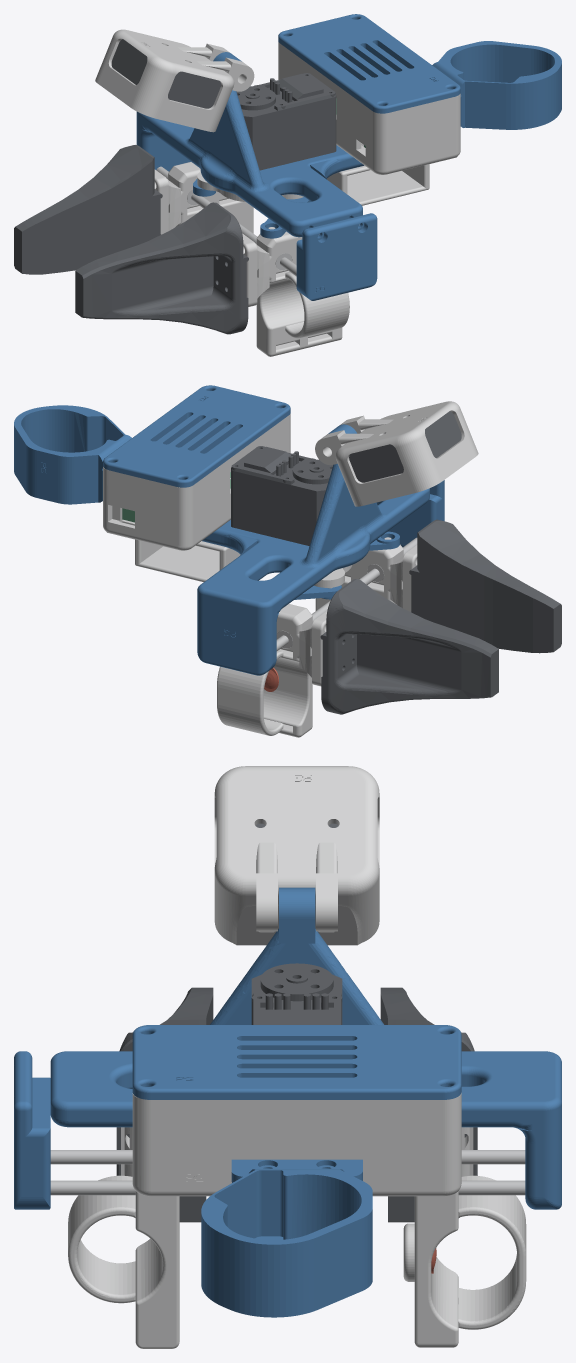
Rendered from para-umi_right_agilex-piper.glb.
3 views of the same model, one above another, from view 1: azimuth 30°, elevation 25°; view 2: azimuth 150°, elevation 25°; view 3: azimuth 270°, elevation 25° (orthographic). The views are drawn at different scales.
Visible parts, largest first — view 1: tip_thumb, main_support, electronics_lid, tip_index_1, controller_support, electronics_box, camera_mount, thumb_link, servo_sts3215, main_support_cover_plate, index_link, hand_support_base (+6 smaller); view 2: main_support, tip_index, electronics_lid, tip_thumb_1, electronics_box, controller_support, camera_mount, index_link, servo_sts3215, hand_support_base, thumb_link, d405 (+4 smaller); view 3: electronics_box, camera_mount, electronics_lid, controller_support, main_support, index_link, thumb_link, main_support_cover_plate, servo_sts3215, rod_-8, rod_-28, tip_index (+1 smaller).
Part boxes in pixels (left/top/right/bottom): tip_thumb: left=77, top=203, right=248, bottom=334; main_support: left=136, top=52, right=364, bottom=237; electronics_lid: left=278, top=14, right=460, bottom=113; tip_index_1: left=19, top=157, right=162, bottom=274; controller_support: left=432, top=41, right=561, bottom=129; electronics_box: left=278, top=42, right=460, bottom=174; camera_mount: left=95, top=29, right=254, bottom=132; thumb_link: left=242, top=227, right=349, bottom=356; servo_sts3215: left=236, top=73, right=336, bottom=170; main_support_cover_plate: left=296, top=213, right=377, bottom=300; index_link: left=154, top=162, right=253, bottom=234; hand_support_base: left=327, top=156, right=457, bottom=205; main_support: left=197, top=424, right=429, bottom=675; tip_index: left=320, top=579, right=496, bottom=714; electronics_lid: left=103, top=385, right=290, bottom=487; tip_thumb_1: left=409, top=532, right=555, bottom=653; electronics_box: left=103, top=413, right=290, bottom=550; controller_support: left=14, top=405, right=131, bottom=504; camera_mount: left=315, top=401, right=478, bottom=506; index_link: left=217, top=604, right=327, bottom=737; servo_sts3215: left=231, top=446, right=333, bottom=545; hand_support_base: left=106, top=531, right=240, bottom=582; thumb_link: left=315, top=537, right=417, bottom=611; d405: left=349, top=411, right=461, bottom=482; electronics_box: left=132, top=1093, right=461, bottom=1196; camera_mount: left=214, top=766, right=379, bottom=945; electronics_lid: left=132, top=1025, right=461, bottom=1099; controller_support: left=201, top=1159, right=372, bottom=1317; main_support: left=50, top=887, right=561, bottom=1209; index_link: left=403, top=1127, right=526, bottom=1347; thumb_link: left=68, top=1127, right=179, bottom=1348; main_support_cover_plate: left=14, top=1051, right=50, bottom=1209; servo_sts3215: left=251, top=963, right=342, bottom=1024; rod_-8: left=50, top=1180, right=525, bottom=1195; rod_-28: left=50, top=1150, right=525, bottom=1164; tip_index: left=388, top=987, right=477, bottom=1222.
Bounding box in the file's own units: 0.249 × 0.1406 × 0.15.
